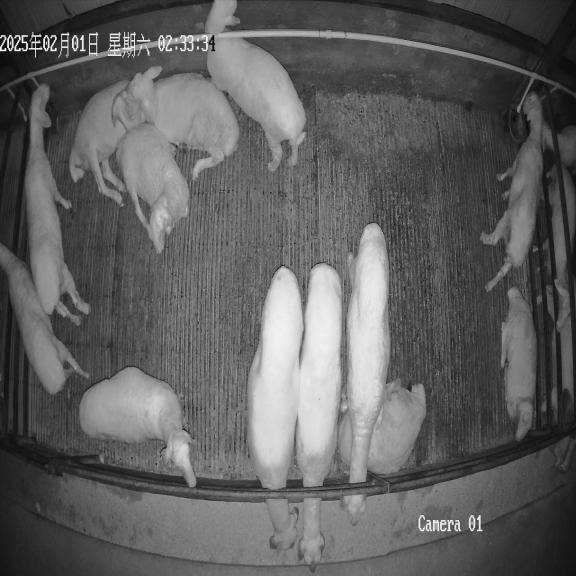eating: (247, 266, 304, 554), (340, 223, 390, 528), (296, 263, 343, 571)
lying: (127, 70, 239, 179), (115, 123, 189, 253), (69, 80, 145, 206), (338, 380, 426, 483)
stand: (205, 0, 306, 172), (24, 84, 89, 324), (79, 367, 196, 488), (0, 243, 89, 395)
